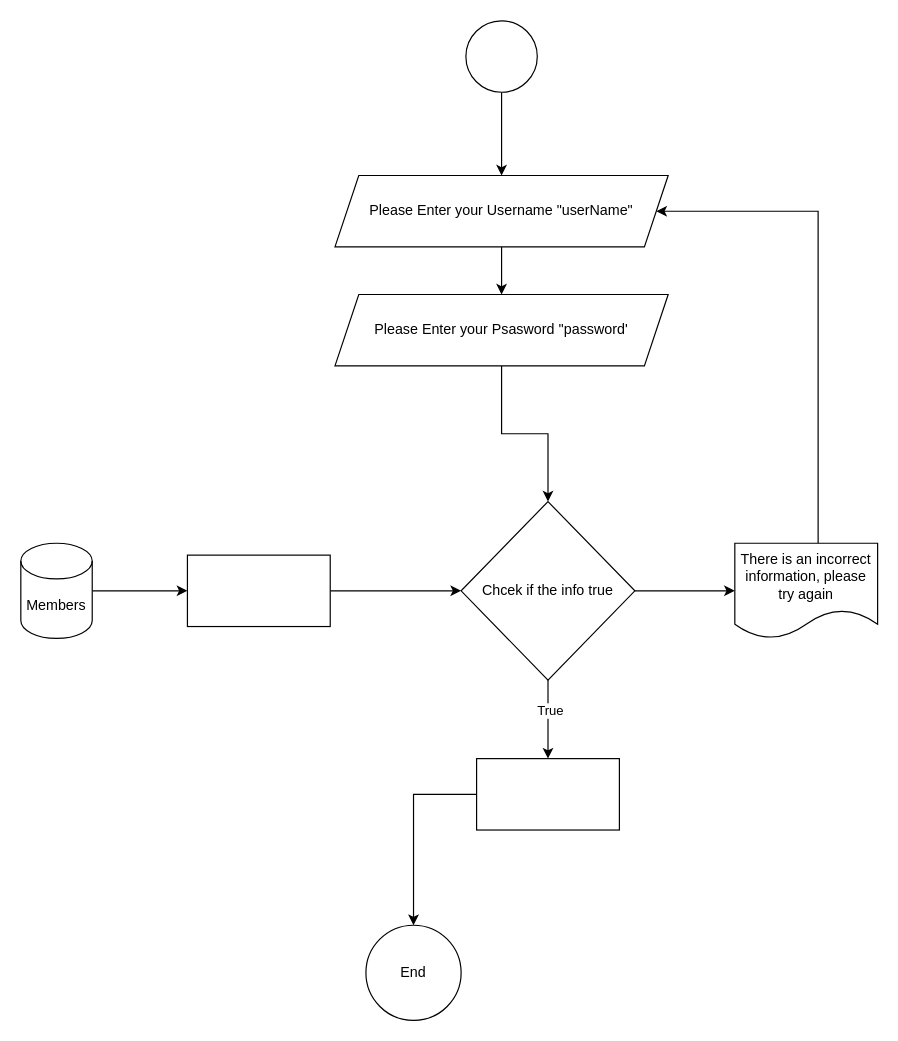
The diagram is 898 pixels wide and 1041 high, and some of its shapes have lost their labels. The shapes that lost their labels are listed below. From the top down, each one's centre as x and y in pixels, then its label:
At pixel 501 56: "Start".
At pixel 258 590: "decrypt the information".
At pixel 547 793: "Give acsess to dashboard".
